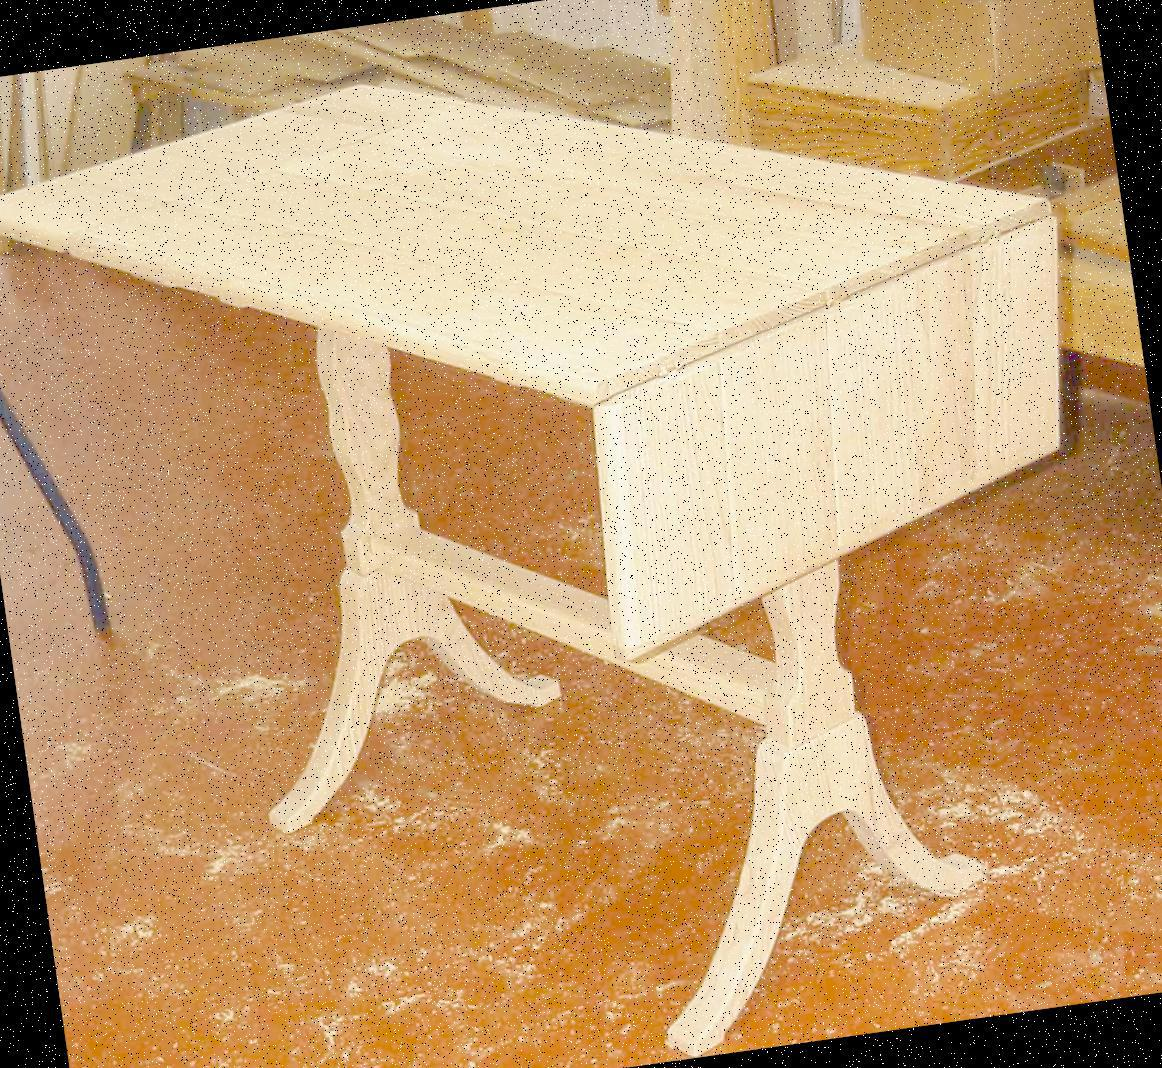Mesa: (0, 12, 1161, 1067)
